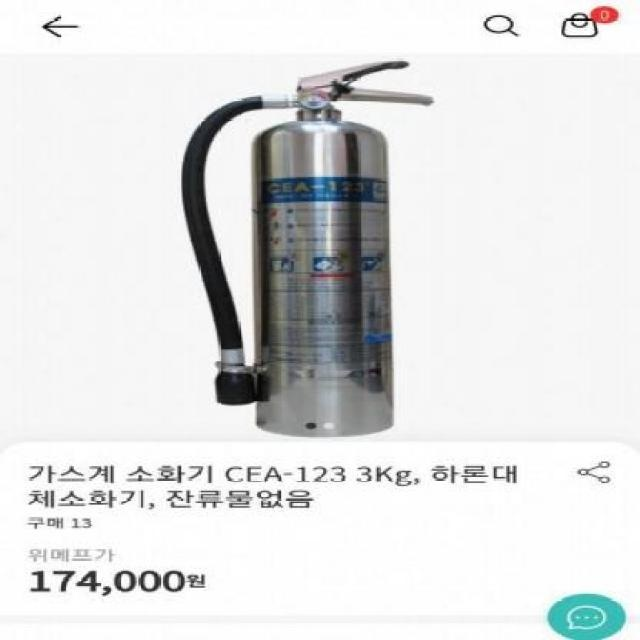fire extinguisher: (179, 57, 435, 438)
